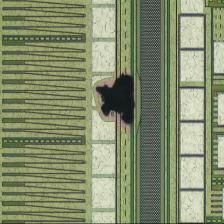PARTICLE: (93, 66, 144, 135)
